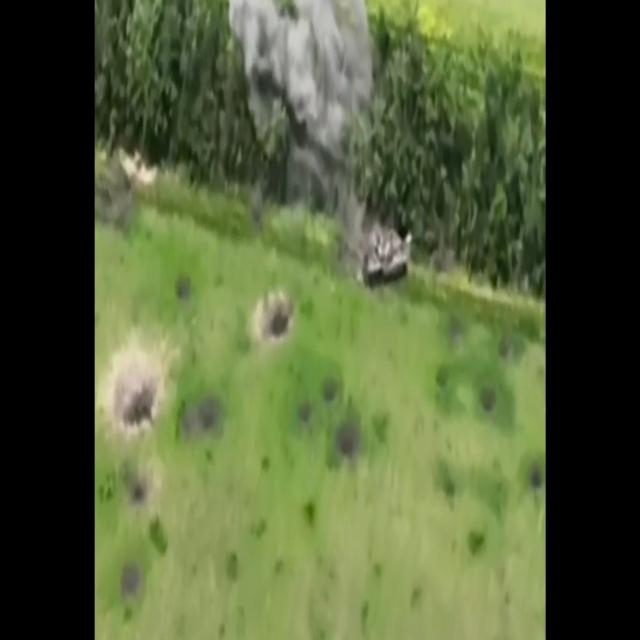MBT: (360, 220, 410, 289)
